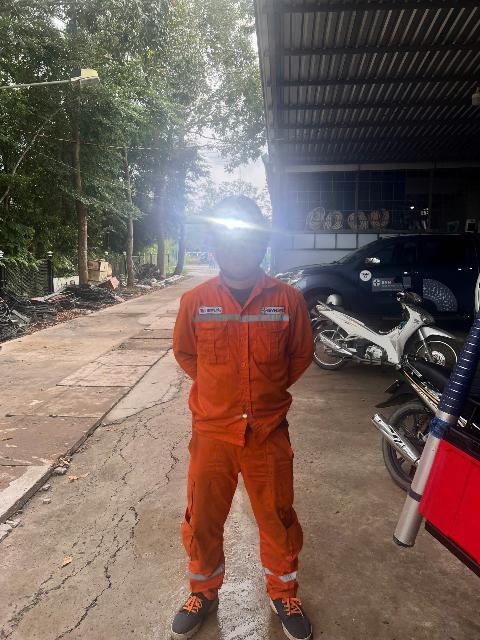helmet: (193, 188, 282, 235)
shoes: (158, 589, 228, 640), (268, 589, 324, 640)
